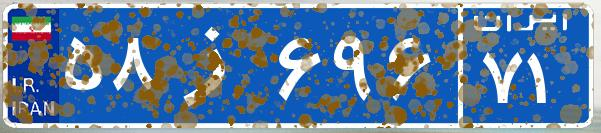1: (525, 38, 570, 115)
5: (57, 26, 110, 107)
6: (385, 28, 445, 110), (273, 28, 330, 110)
7: (475, 38, 525, 113)
8: (110, 28, 158, 105)
9: (330, 28, 385, 110)
ز: (158, 15, 273, 115)
